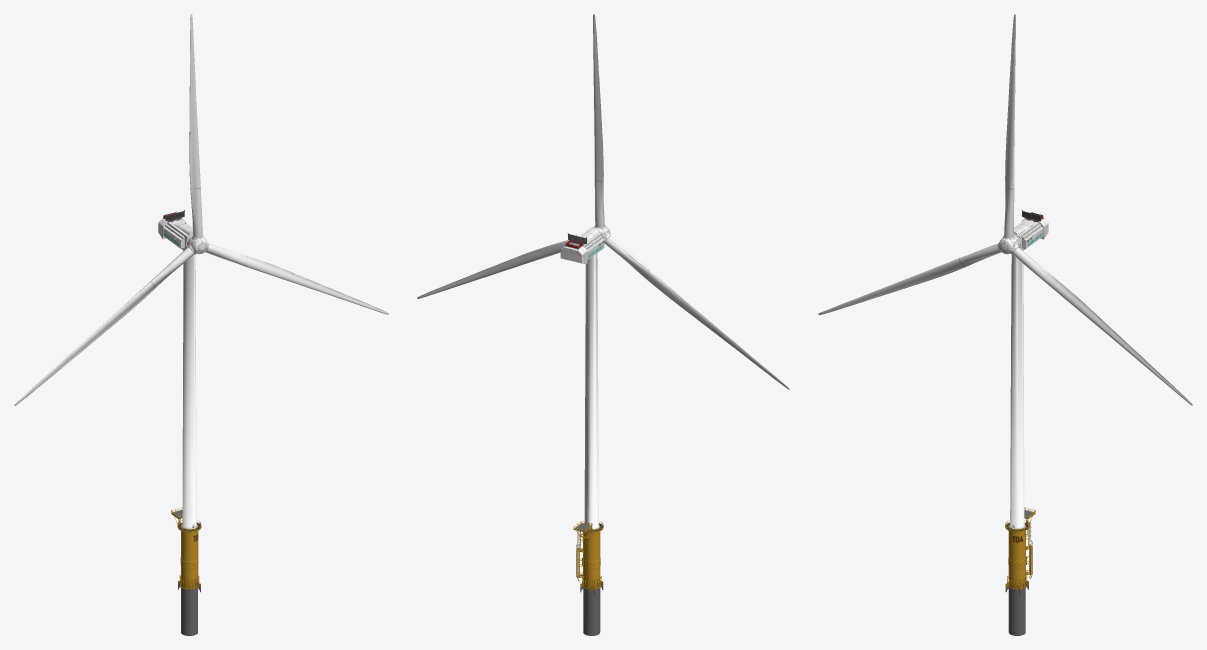
The model's file is WTG.glb.
The picture shows the model from 3 angles, left to right: view 1: azimuth 30°, elevation 25°; view 2: azimuth 150°, elevation 25°; view 3: azimuth 330°, elevation 25°; orthographic projection.
Visible parts, largest first — view 1: Rotor, Tower, Foundation, Hub; view 2: Rotor, Tower, Foundation, Hub; view 3: Rotor, Tower, Foundation, Hub.
Part boxes in pixels (bbox=[...]): Rotor: bbox=[14, 14, 388, 405]; Tower: bbox=[181, 254, 197, 529]; Foundation: bbox=[171, 507, 201, 635]; Hub: bbox=[158, 210, 192, 250]; Rotor: bbox=[417, 14, 789, 389]; Tower: bbox=[584, 253, 599, 529]; Foundation: bbox=[573, 521, 603, 635]; Hub: bbox=[560, 227, 604, 263]; Rotor: bbox=[818, 14, 1192, 405]; Tower: bbox=[1009, 254, 1025, 529]; Foundation: bbox=[1005, 507, 1035, 635]; Hub: bbox=[1014, 210, 1048, 250].
Size of the model in its own units: 102 by 162 by 15.98.
Materials: 5 (4 with a texture image).
